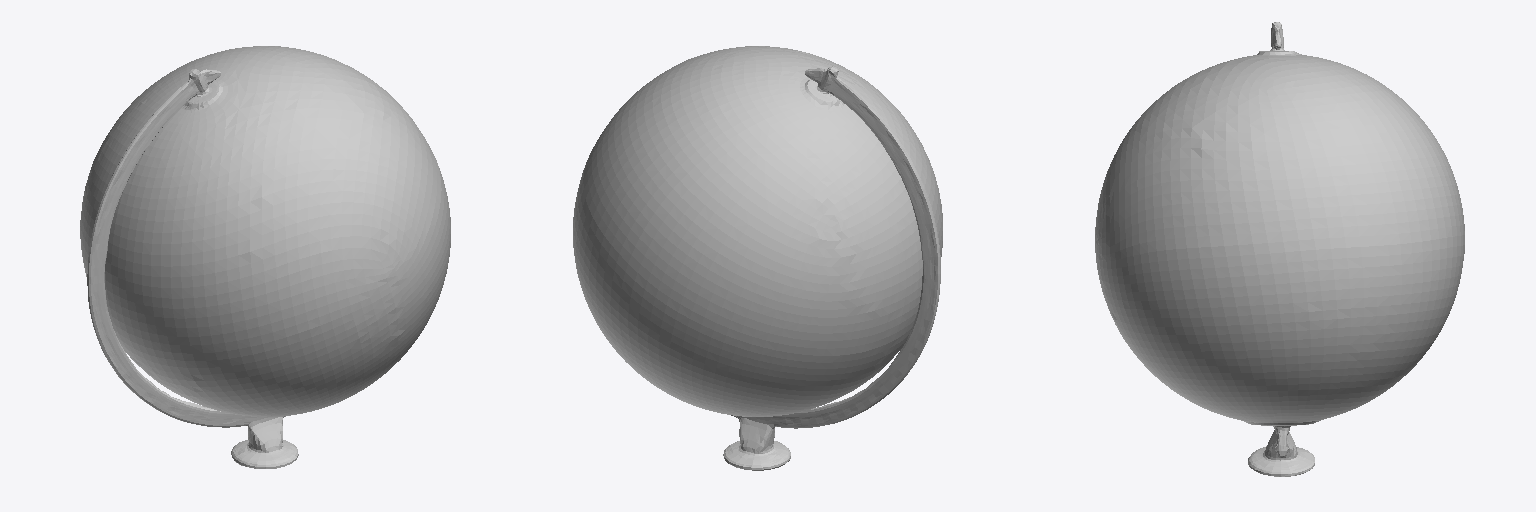
Rendered from Globe_SF.obj.
3 renders of one model, left to right at view 1: azimuth 30°, elevation 25°; view 2: azimuth 150°, elevation 25°; view 3: azimuth 270°, elevation 25°, orthographic.
Visible parts, largest first — view 1: Globe_Retopo_Karttapallo_high_sculpted_fixed_mesh; view 2: Globe_Retopo_Karttapallo_high_sculpted_fixed_mesh; view 3: Globe_Retopo_Karttapallo_high_sculpted_fixed_mesh.
Boxes of the visible parts, box(x1,y1,x2,y2) form: Globe_Retopo_Karttapallo_high_sculpted_fixed_mesh: box(80, 46, 450, 468); Globe_Retopo_Karttapallo_high_sculpted_fixed_mesh: box(573, 46, 942, 470); Globe_Retopo_Karttapallo_high_sculpted_fixed_mesh: box(1095, 22, 1464, 476).
Bounding box in the file's own units: 4.59 × 5.23 × 4.32.